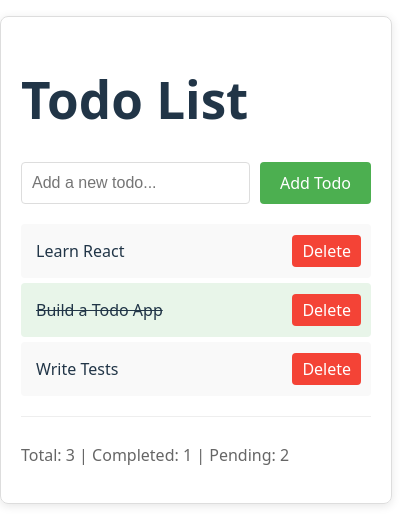
TodoList Component › deletes a todo
Click the button with test id "delete-btn-1".
click(327, 251)  # box top-left (292, 235), bottom-right (361, 267)
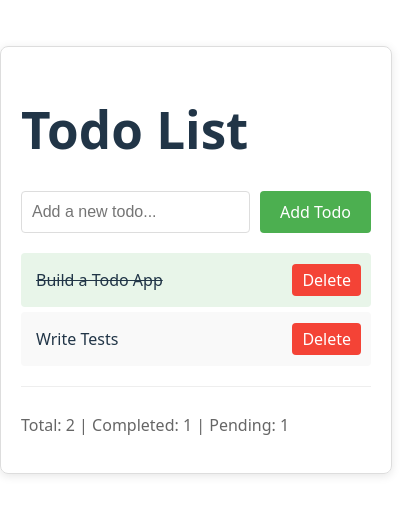
Expected: the text "Learn React" is gone
Expected: the number of list items is 2, top-left (21, 254), bottom-right (371, 308); top-left (21, 312), bottom-right (371, 366)
